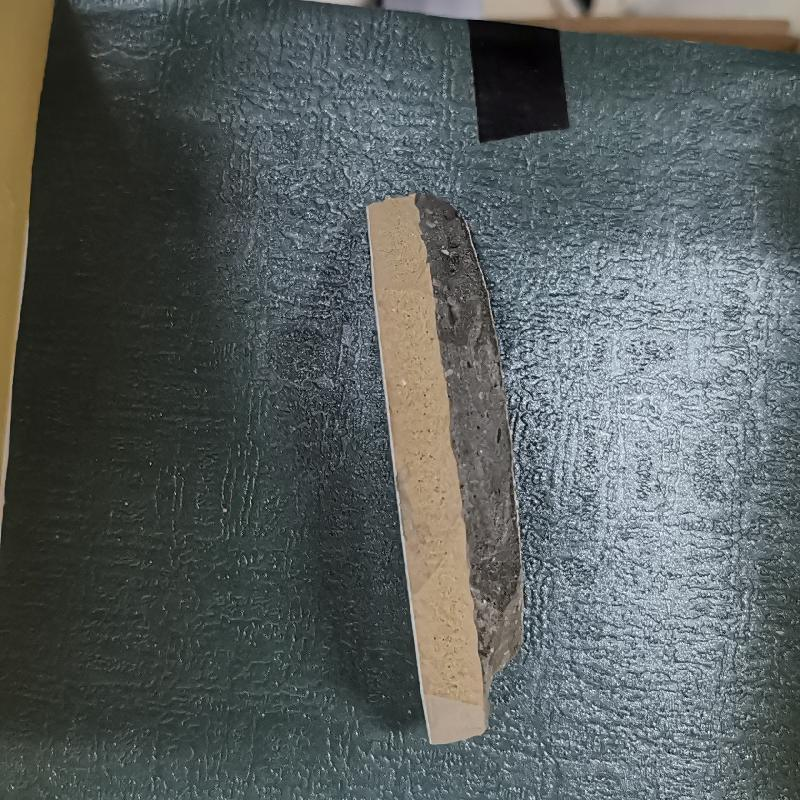tile: (325, 181, 550, 759)
